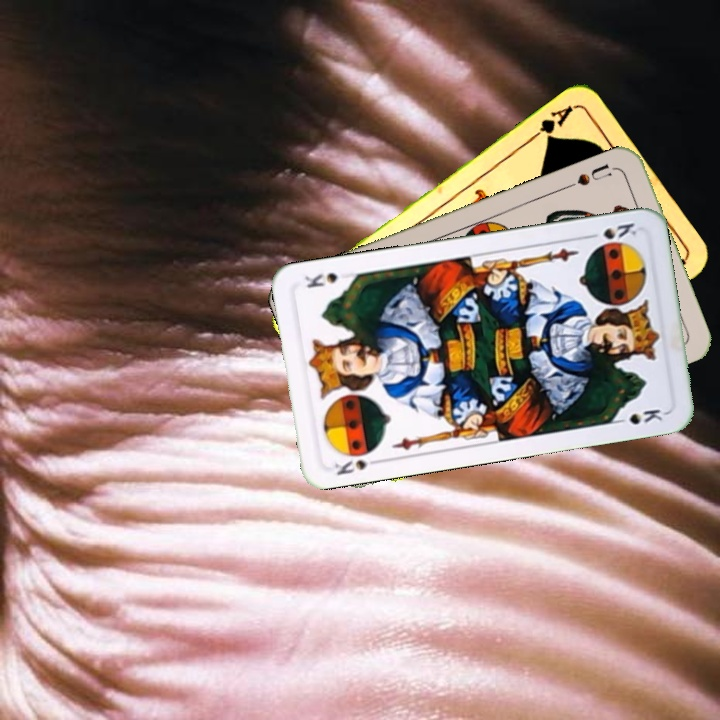GA: (526, 101, 576, 144)
SK: (582, 219, 639, 249), (330, 454, 384, 478)
SU: (562, 159, 614, 192)
